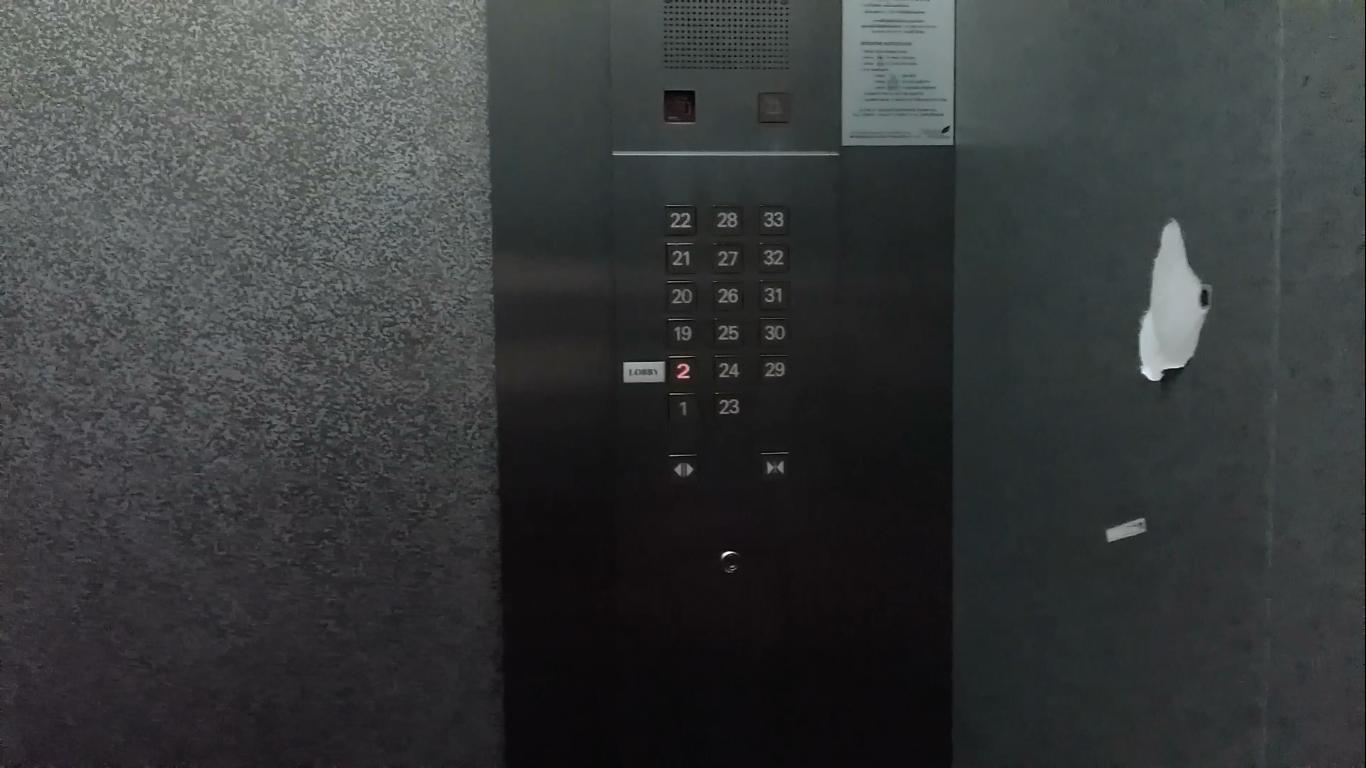1: (666, 390, 699, 424)
19: (663, 314, 698, 348)
2: (664, 352, 699, 386)
20: (664, 278, 699, 312)
21: (664, 240, 699, 274)
22: (662, 202, 697, 236)
23: (710, 388, 745, 422)
24: (710, 351, 745, 385)
25: (710, 314, 745, 348)
26: (710, 279, 745, 313)
27: (710, 241, 745, 275)
28: (709, 202, 744, 236)
29: (756, 352, 791, 386)
30: (755, 315, 790, 349)
31: (755, 276, 790, 310)
32: (755, 239, 790, 273)
33: (754, 202, 789, 236)
alarm: (753, 90, 793, 124)
close: (756, 449, 791, 483)
open: (665, 451, 700, 485)
unknown: (659, 86, 696, 123)
